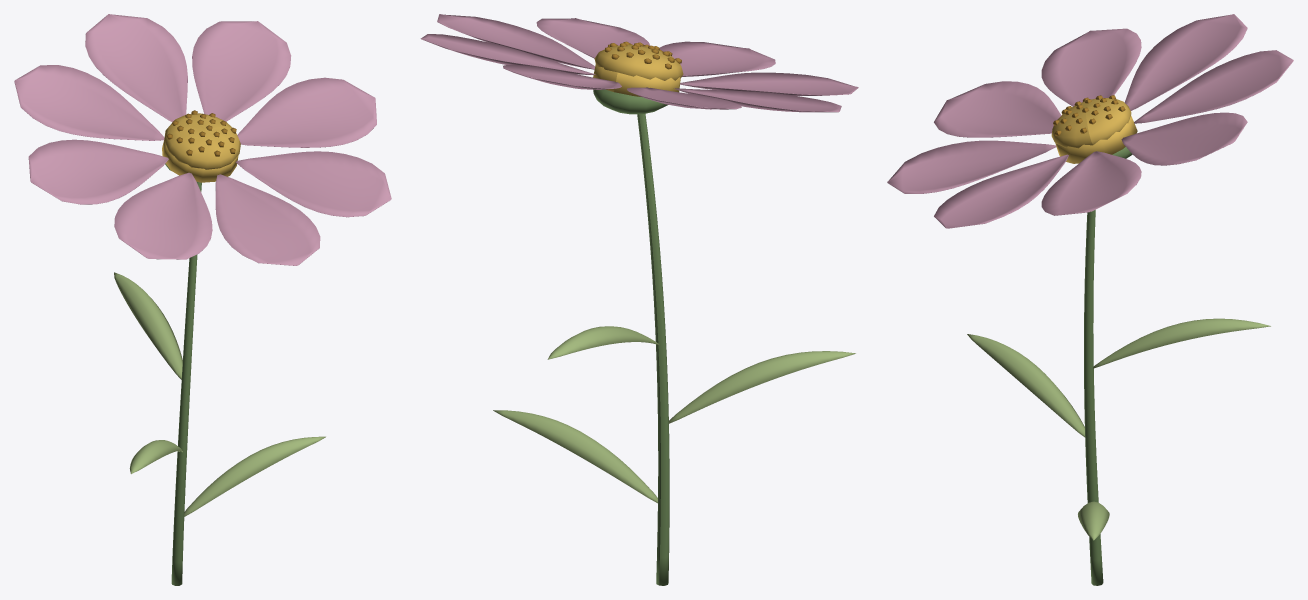
File: cosmos-common-v2.glb
3 views of the same model, side by side, from view 1: azimuth 30°, elevation 25°; view 2: azimuth 150°, elevation 25°; view 3: azimuth 270°, elevation 25° (orthographic). The views are drawn at different scales.
Visible parts, largest first — view 1: cosmos-common-v2-petal, cosmos-common-v2-leaf, cosmos-common-v2-center, cosmos-common-v2-stem, cosmos-common-v2-pollen; view 2: cosmos-common-v2-petal, cosmos-common-v2-leaf, cosmos-common-v2-stem, cosmos-common-v2-center, cosmos-common-v2-pollen; view 3: cosmos-common-v2-petal, cosmos-common-v2-leaf, cosmos-common-v2-stem, cosmos-common-v2-center, cosmos-common-v2-pollen.
Boxes of the visible parts, <box> form: cosmos-common-v2-petal: <box>14,14,391,265</box>; cosmos-common-v2-leaf: <box>114,272,325,516</box>; cosmos-common-v2-center: <box>162,113,240,182</box>; cosmos-common-v2-stem: <box>165,163,201,585</box>; cosmos-common-v2-pollen: <box>166,110,236,156</box>; cosmos-common-v2-petal: <box>420,14,858,112</box>; cosmos-common-v2-leaf: <box>493,326,855,503</box>; cosmos-common-v2-stem: <box>593,89,669,585</box>; cosmos-common-v2-center: <box>593,44,683,96</box>; cosmos-common-v2-pollen: <box>604,41,681,69</box>; cosmos-common-v2-petal: <box>887,14,1293,228</box>; cosmos-common-v2-leaf: <box>967,318,1270,540</box>; cosmos-common-v2-stem: <box>1084,147,1132,585</box>; cosmos-common-v2-center: <box>1051,98,1137,163</box>; cosmos-common-v2-pollen: <box>1053,95,1125,135</box>.
Size of the model in its own units: 1.22 by 1.69 by 1.16.
